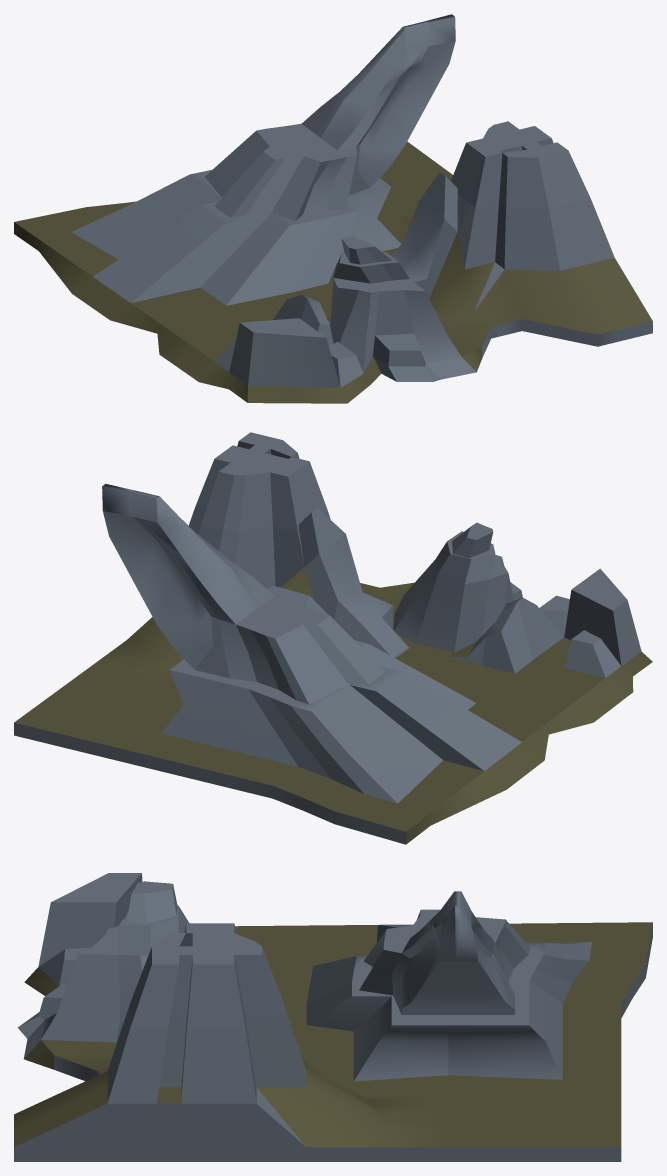
Rendered from Aqua_RockB.fbx.
The picture shows the model from 3 angles, top to bottom: view 1: azimuth 30°, elevation 25°; view 2: azimuth 150°, elevation 25°; view 3: azimuth 270°, elevation 25°; orthographic projection. The views are drawn at different scales.
Visible parts, largest first — view 1: pCube2; view 2: pCube2; view 3: pCube2.
Part boxes in pixels (x1,y1,x2,y2): pCube2: (14, 14, 652, 403); pCube2: (14, 432, 652, 844); pCube2: (14, 873, 652, 1161).
Size of the model in its own units: 5.79 by 2.64 by 6.64.
